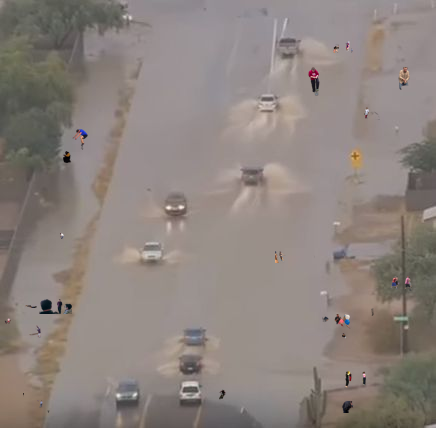Human: (39, 299, 72, 314), (322, 314, 351, 331), (345, 371, 374, 388), (275, 251, 315, 263), (308, 67, 320, 96), (72, 129, 88, 150), (390, 276, 412, 291), (398, 67, 410, 90), (52, 151, 71, 163), (364, 107, 380, 120), (333, 41, 350, 53), (37, 400, 50, 413), (29, 325, 41, 338), (342, 401, 354, 413), (219, 389, 226, 400), (60, 233, 67, 239), (4, 318, 11, 324), (25, 305, 37, 308), (371, 308, 375, 316), (342, 333, 347, 339), (351, 48, 353, 53), (23, 393, 24, 397)
